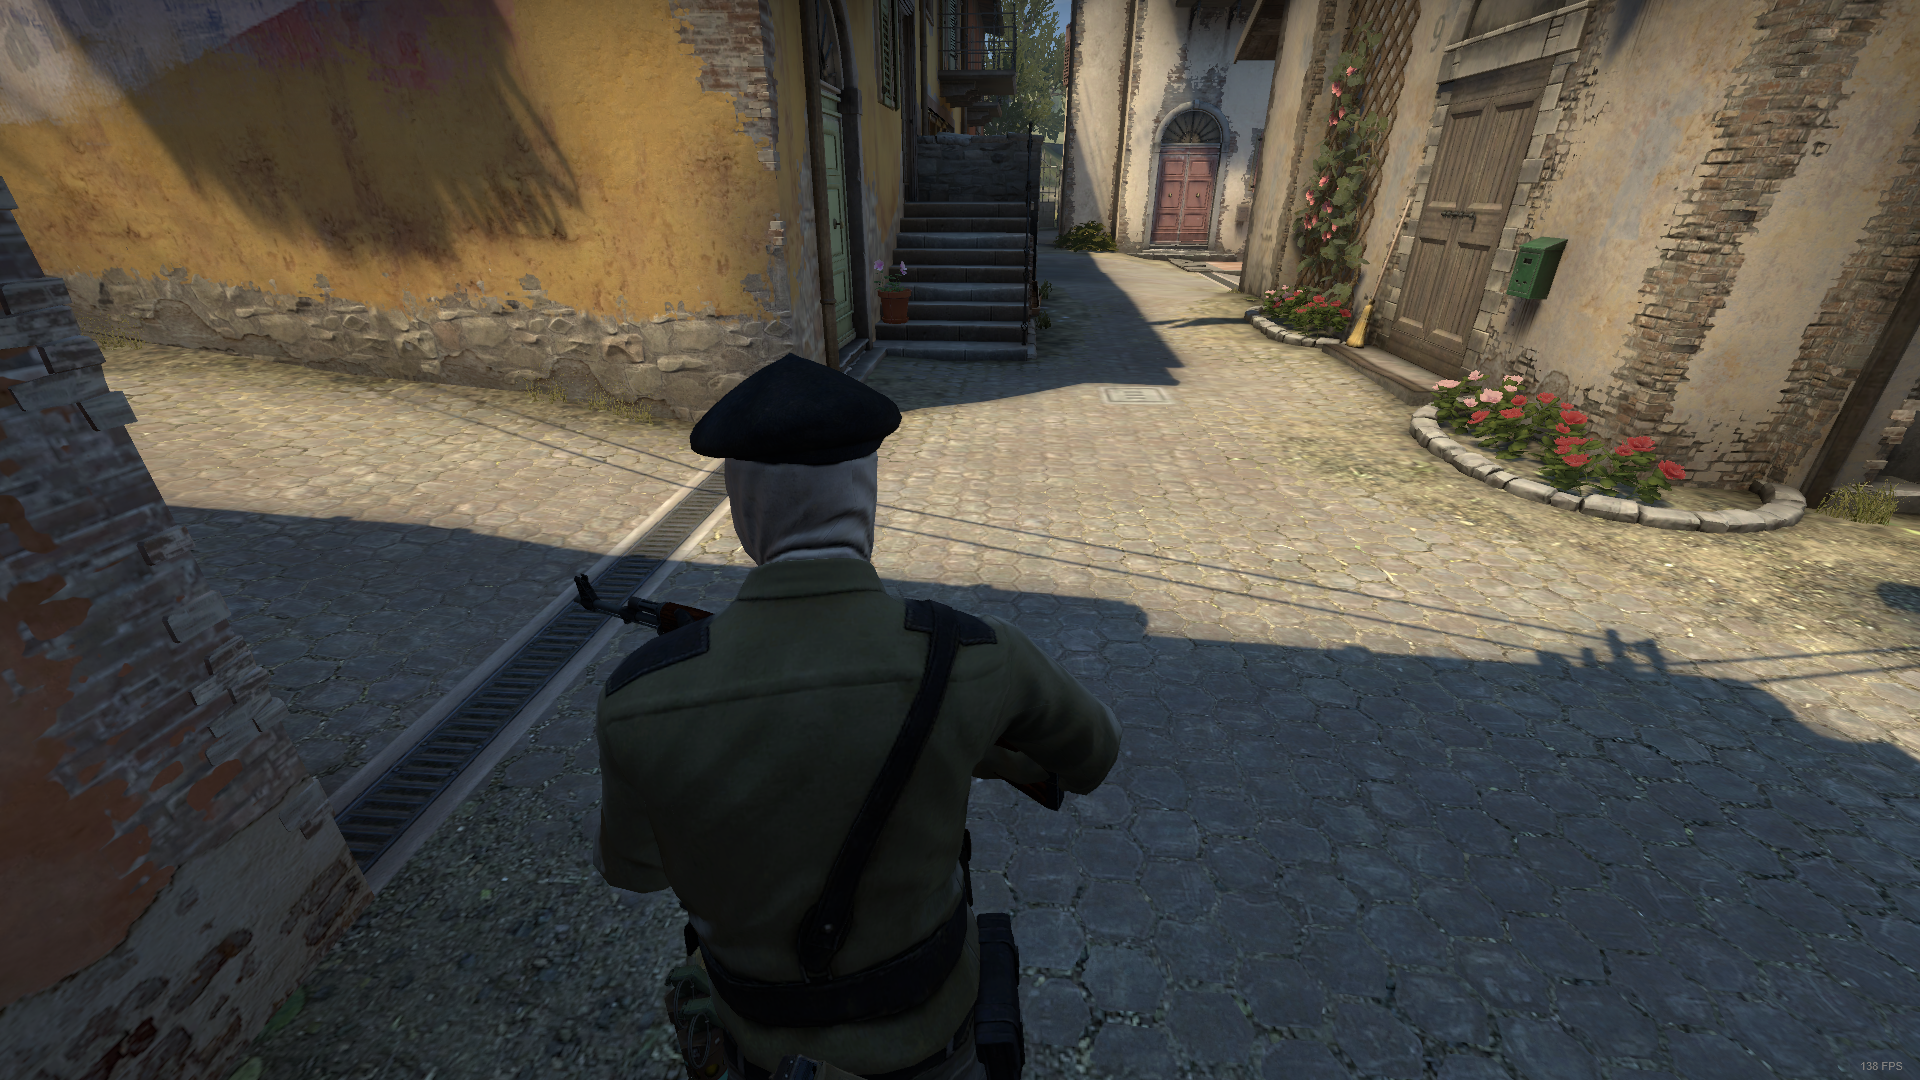t: (593, 353, 1121, 1080)
